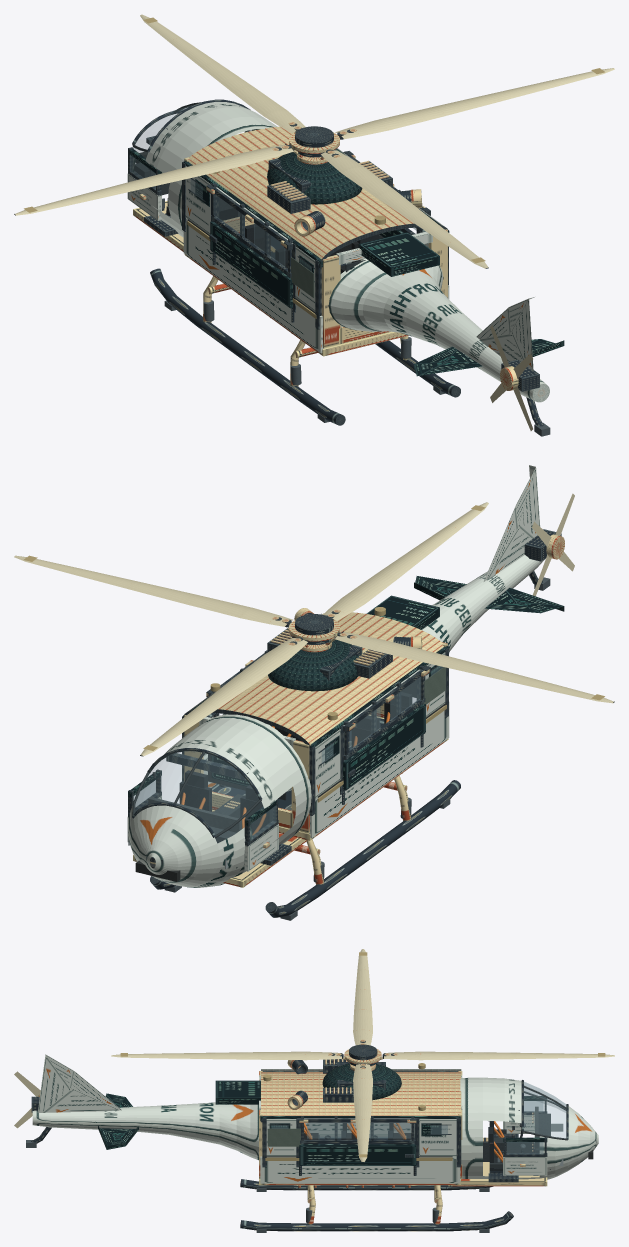
Rendered from PROJECT_Z_Transport_Helicopter.glb.
The picture shows the model from 3 angles, top to bottom: view 1: azimuth 30°, elevation 25°; view 2: azimuth 150°, elevation 25°; view 3: azimuth 270°, elevation 25°; orthographic projection. The views are drawn at different scales.
Visible parts, largest first — view 1: TailBoom_Lofted_Tapered_Primary_Shell, Cabin_Curved_Roof_With_Interior_Liner_4p39m, Fuselage_Sculpted_Nose_Shell_With_Pilot_Door_Cutouts, Cabin_Lower_Side_Sills_and_Upper_Roof_Rails, Cabin_Forward_and_Aft_Bulkhead_Door_Frames, MainRotor_Blade_03_Closed_Airfoil, LandingSkid_PORT_Tubular_Longitudinal_Runner, MainRotor_Blade_01_Closed_Airfoil, MainRotor_Blade_04_Closed_Airfoil, MainRotor_Blade_02_Closed_Airfoil, Door_PORT_Lower_Rigid_CrashPanel, Rotor_Transmission_Doghouse_and_Engine_Fairing (+17 smaller); view 2: Fuselage_Sculpted_Nose_Shell_With_Pilot_Door_Cutouts, Cabin_Curved_Roof_With_Interior_Liner_4p39m, Glass_Forward_Curved_Panoramic_Windshield, Cabin_Lower_Side_Sills_and_Upper_Roof_Rails, TailBoom_Lofted_Tapered_Primary_Shell, Rotor_Transmission_Doghouse_and_Engine_Fairing, MainRotor_Blade_03_Closed_Airfoil, MainRotor_Blade_01_Closed_Airfoil, MainRotor_Blade_02_Closed_Airfoil, MainRotor_Blade_04_Closed_Airfoil, LandingSkid_PORT_Tubular_Longitudinal_Runner, Door_PORT_Lower_Rigid_CrashPanel (+19 smaller); view 3: TailBoom_Lofted_Tapered_Primary_Shell, Cabin_Curved_Roof_With_Interior_Liner_4p39m, Fuselage_Sculpted_Nose_Shell_With_Pilot_Door_Cutouts, Cabin_Lower_Side_Sills_and_Upper_Roof_Rails, TailBoom_Tall_Vertical_Stabilizer, Door_STARBOARD_Lower_Rigid_CrashPanel, LandingSkid_STARBOARD_Tubular_Longitudinal_Runner, Glass_Forward_Curved_Panoramic_Windshield, Cabin_Fixed_Forward_and_Aft_Side_Wall_Panels, MainRotor_Blade_04_Closed_Airfoil, MainRotor_Blade_02_Closed_Airfoil, MainRotor_Blade_01_Closed_Airfoil (+22 smaller).
Part boxes in pixels (x1=…): TailBoom_Lofted_Tapered_Primary_Shell: x1=328, y1=258, x2=549, y2=402; Cabin_Curved_Roof_With_Interior_Liner_4p39m: x1=188, y1=126, x2=448, y2=267; Fuselage_Sculpted_Nose_Shell_With_Pilot_Door_Cutouts: x1=132, y1=102, x2=277, y2=237; Cabin_Lower_Side_Sills_and_Upper_Roof_Rails: x1=183, y1=148, x2=449, y2=353; Cabin_Forward_and_Aft_Bulkhead_Door_Frames: x1=184, y1=157, x2=447, y2=348; MainRotor_Blade_03_Closed_Airfoil: x1=14, y1=143, x2=294, y2=215; LandingSkid_PORT_Tubular_Longitudinal_Runner: x1=150, y1=268, x2=345, y2=425; MainRotor_Blade_01_Closed_Airfoil: x1=335, y1=68, x2=614, y2=139; MainRotor_Blade_04_Closed_Airfoil: x1=320, y1=149, x2=488, y2=268; MainRotor_Blade_02_Closed_Airfoil: x1=140, y1=14, x2=305, y2=132; Door_PORT_Lower_Rigid_CrashPanel: x1=210, y1=221, x2=292, y2=308; Rotor_Transmission_Doghouse_and_Engine_Fairing: x1=267, y1=152, x2=362, y2=204; Fuselage_Sculpted_Nose_Shell_With_Pilot_Door_Cutouts: x1=128, y1=714, x2=311, y2=887; Cabin_Curved_Roof_With_Interior_Liner_4p39m: x1=182, y1=612, x2=449, y2=752; Glass_Forward_Curved_Panoramic_Windshield: x1=134, y1=751, x2=263, y2=842; Cabin_Lower_Side_Sills_and_Upper_Roof_Rails: x1=191, y1=646, x2=449, y2=838; TailBoom_Lofted_Tapered_Primary_Shell: x1=422, y1=555, x2=545, y2=651; Rotor_Transmission_Doghouse_and_Engine_Fairing: x1=268, y1=640, x2=359, y2=691; MainRotor_Blade_03_Closed_Airfoil: x1=334, y1=631, x2=614, y2=703; MainRotor_Blade_01_Closed_Airfoil: x1=14, y1=555, x2=293, y2=626; MainRotor_Blade_02_Closed_Airfoil: x1=140, y1=637, x2=308, y2=756; MainRotor_Blade_04_Closed_Airfoil: x1=323, y1=502, x2=488, y2=620; LandingSkid_PORT_Tubular_Longitudinal_Runner: x1=265, y1=780, x2=460, y2=917; Door_PORT_Lower_Rigid_CrashPanel: x1=343, y1=704, x2=425, y2=790; TailBoom_Lofted_Tapered_Primary_Shell: x1=32, y1=1102, x2=258, y2=1160; Cabin_Curved_Roof_With_Interior_Liner_4p39m: x1=261, y1=1069, x2=461, y2=1122; Fuselage_Sculpted_Nose_Shell_With_Pilot_Door_Cutouts: x1=460, y1=1077, x2=598, y2=1179; Cabin_Lower_Side_Sills_and_Upper_Roof_Rails: x1=260, y1=1071, x2=460, y2=1183; TailBoom_Tall_Vertical_Stabilizer: x1=37, y1=1054, x2=121, y2=1112; Door_STARBOARD_Lower_Rigid_CrashPanel: x1=299, y1=1144, x2=416, y2=1165; LandingSkid_STARBOARD_Tubular_Longitudinal_Runner: x1=240, y1=1211, x2=513, y2=1231; Glass_Forward_Curved_Panoramic_Windshield: x1=524, y1=1082, x2=566, y2=1137; Cabin_Fixed_Forward_and_Aft_Side_Wall_Panels: x1=266, y1=1119, x2=456, y2=1156; MainRotor_Blade_04_Closed_Airfoil: x1=111, y1=1051, x2=341, y2=1060; MainRotor_Blade_02_Closed_Airfoil: x1=384, y1=1051, x2=614, y2=1060; MainRotor_Blade_01_Closed_Airfoil: x1=353, y1=1063, x2=372, y2=1162.
Bounding box in the file's own units: 11.04 × 3.87 × 13.17.
Materials: 2 (1 with a texture image).
